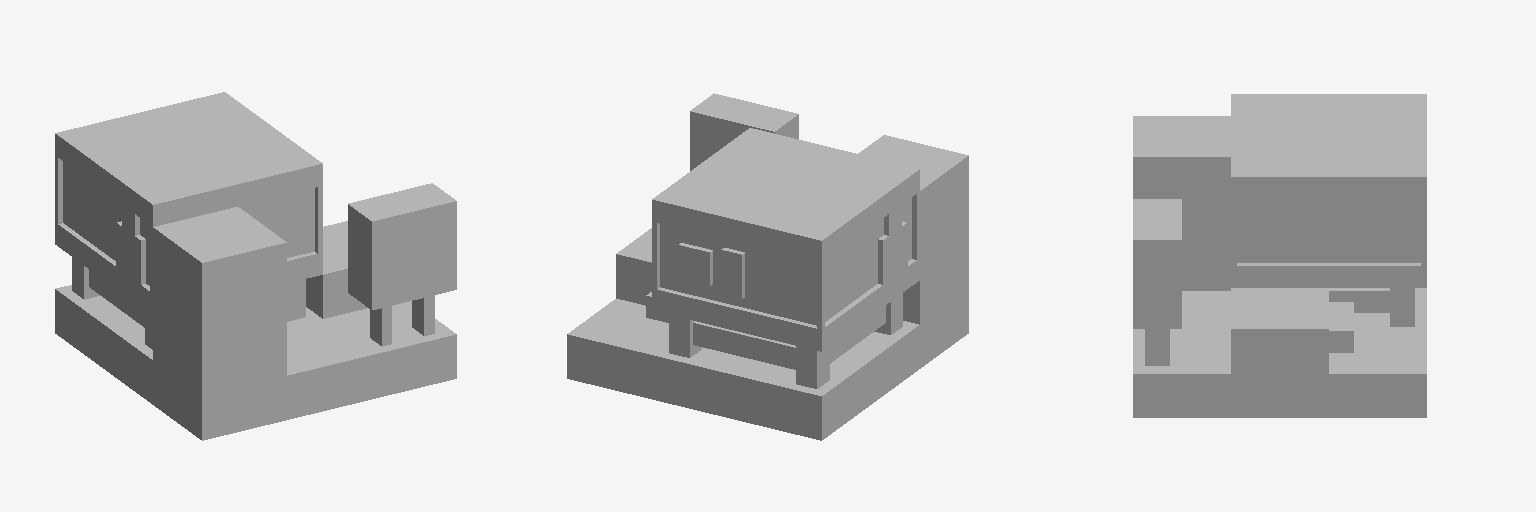
Rendered from melting_crucible.obj.
3 renders of one model, left to right at view 1: azimuth 30°, elevation 25°; view 2: azimuth 150°, elevation 25°; view 3: azimuth 270°, elevation 25°, orthographic.
Parts seen in each view (by area): view 1: melting_crucible; view 2: melting_crucible; view 3: melting_crucible.
Part boxes in pixels (x1,y1,x2,y2): melting_crucible: (55,92,456,440); melting_crucible: (567,93,968,440); melting_crucible: (1133,94,1426,417).
Size of the model in its own units: 3 by 2.25 by 3.